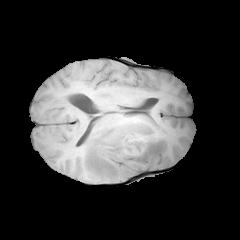glioma: (82, 116, 168, 179)
